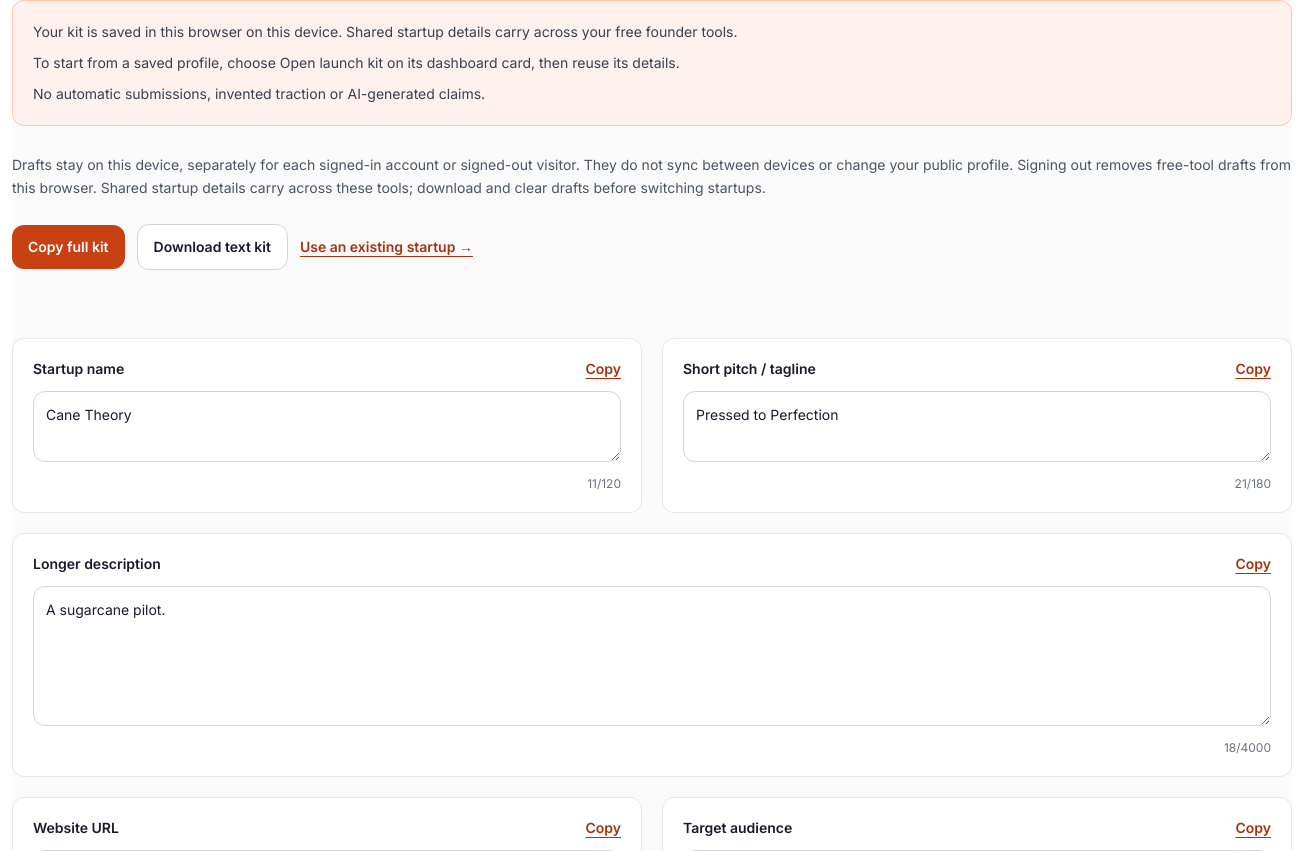
Test case: free launch tools › exports a text kit and cleans up its download URL
The width and height of the screenshot is (1304, 851).
Click the button "Download text kit" at (212, 247), box [136,224,288,270]
Wait 1000 ms
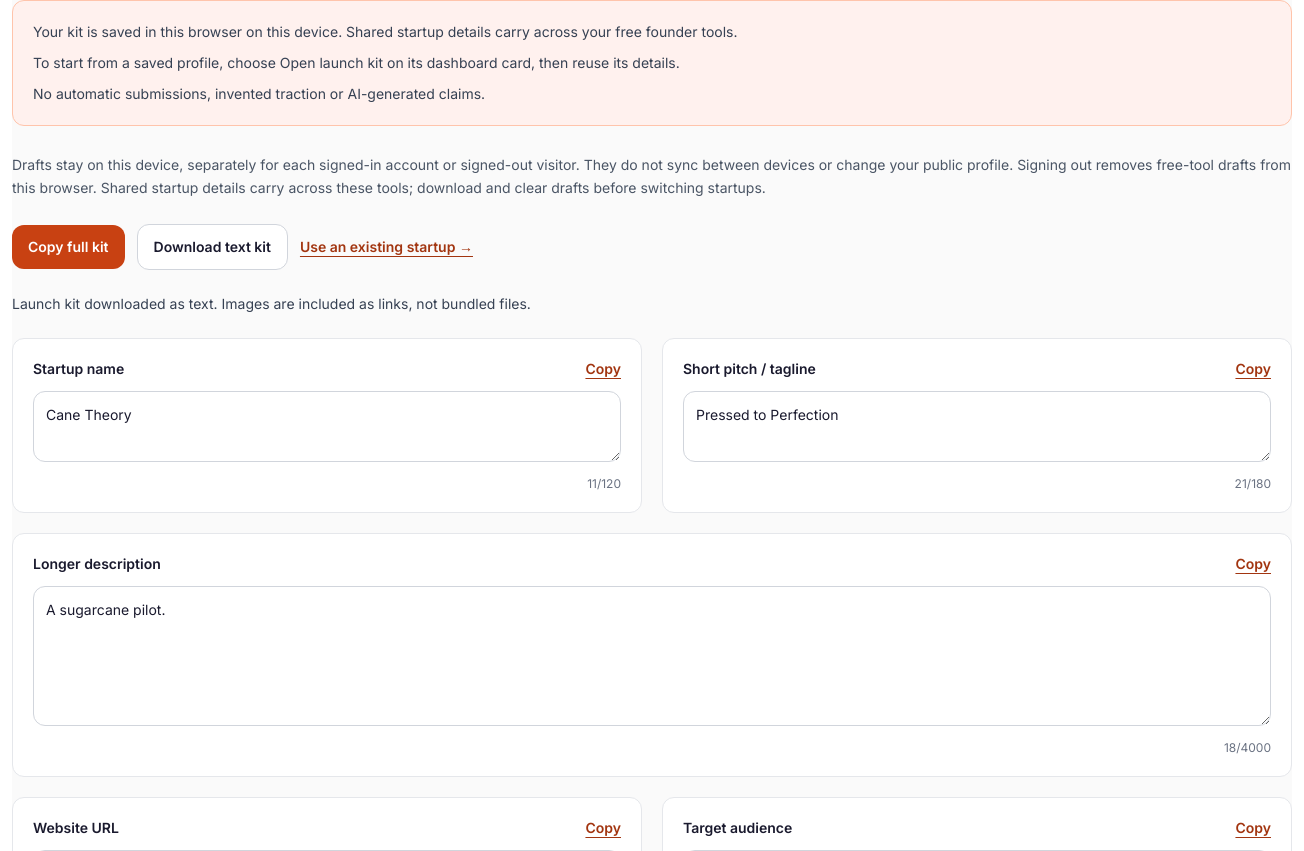
Expected: the text "downloaded as text" is shown, [12,295,531,312]
